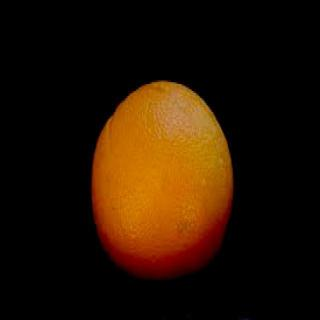orange: (79, 73, 240, 303)
